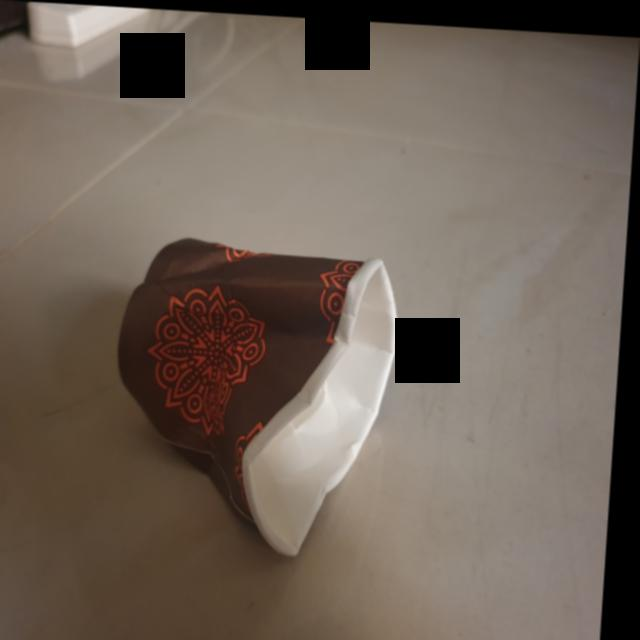cups: (108, 219, 419, 568)
